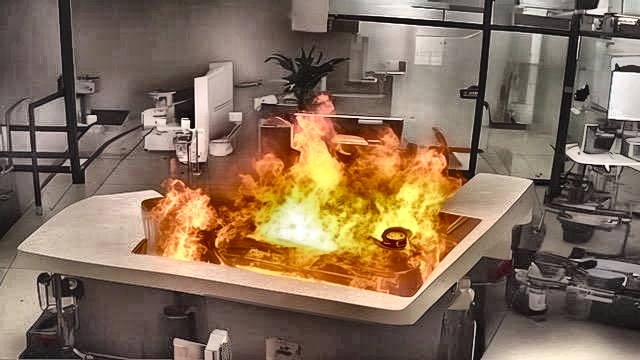fire: (147, 100, 472, 304)
